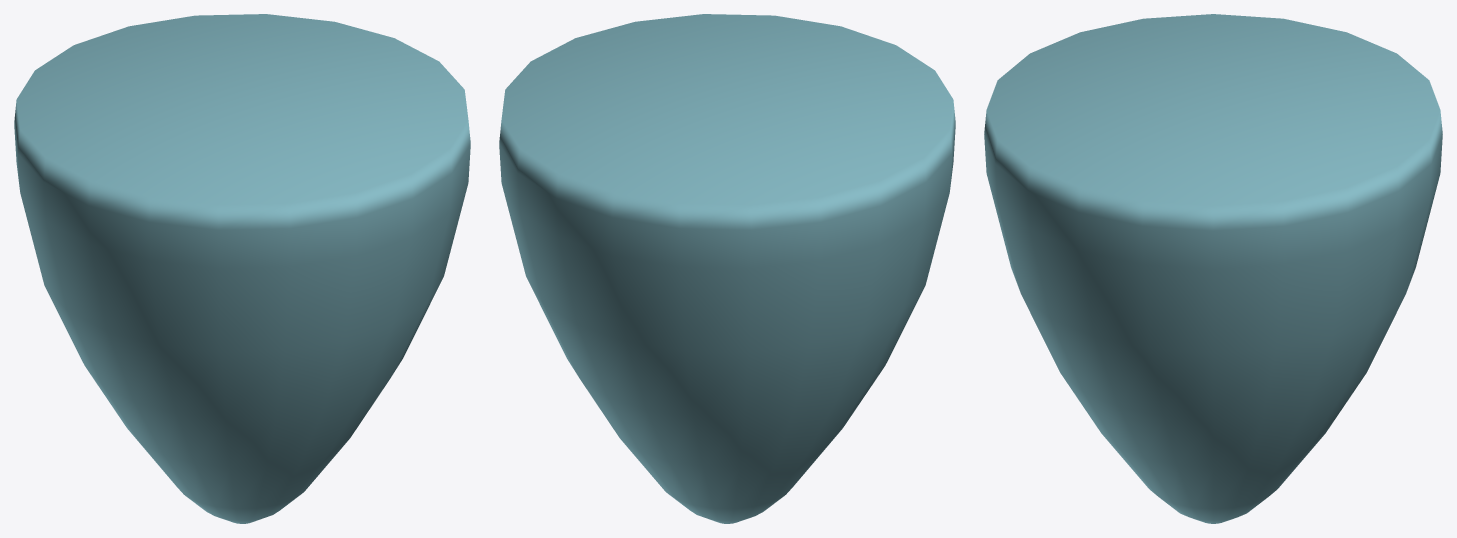
Rendered from Stalactite.fbx.
The picture shows the model from 3 angles, left to right: view 1: azimuth 30°, elevation 25°; view 2: azimuth 150°, elevation 25°; view 3: azimuth 270°, elevation 25°; orthographic projection.
Parts seen in each view (by area): view 1: Stalactite2; view 2: Stalactite2; view 3: Stalactite2.
Boxes of the visible parts, <box> form: Stalactite2: <box>14,14,470,523</box>; Stalactite2: <box>499,14,955,523</box>; Stalactite2: <box>984,14,1442,523</box>.
Size of the model in its own units: 3.5 by 3.47 by 3.5.
